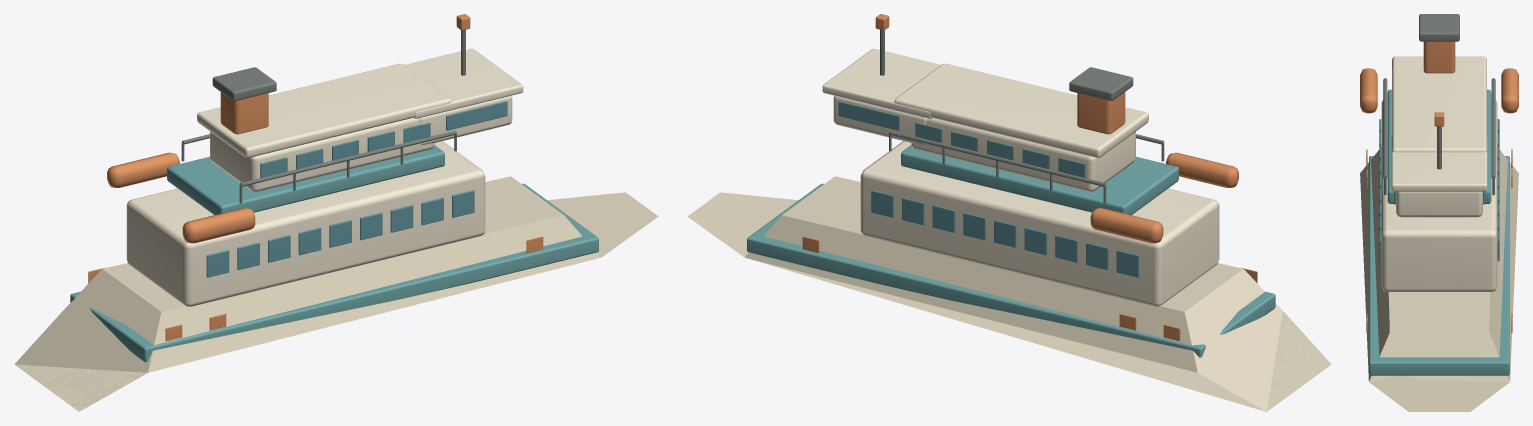
File: passenger_ferry_a.glb
3 views of the same model, side by side, from view 1: azimuth 30°, elevation 25°; view 2: azimuth 150°, elevation 25°; view 3: azimuth 270°, elevation 25° (orthographic). The views are drawn at different scales.
Visible parts, largest first — view 1: Ferry_hull, Passenger_cabin, Sun_deck_canopy, Waterline_band, Sky_deck, Upper_lounge, Bridge_visor, Lifeboat, Cruise_funnel, Lifeboat.001, Forward_bridge, Funnel_cap (+2 smaller); view 2: Ferry_hull, Passenger_cabin, Sun_deck_canopy, Waterline_band, Sky_deck, Upper_lounge, Bridge_visor, Lifeboat.001, Cruise_funnel, Lifeboat, Forward_bridge, Funnel_cap (+2 smaller); view 3: Ferry_hull, Passenger_cabin, Sun_deck_canopy, Waterline_band, Bridge_visor, Forward_bridge, Sky_deck, Funnel_cap, Cruise_funnel, Lifeboat, Lifeboat.001, Ferry_detail (+3 smaller).
Boxes of the visible parts, box(x1,y1,x2,y2) form: Ferry_hull: box(14, 176, 658, 411); Passenger_cabin: box(126, 141, 485, 306); Sun_deck_canopy: box(197, 63, 451, 157); Waterline_band: box(70, 183, 598, 362); Sky_deck: box(167, 145, 444, 215); Upper_lounge: box(210, 118, 434, 191); Bridge_visor: box(405, 48, 523, 118); Lifeboat: box(182, 208, 255, 243); Cruise_funnel: box(220, 92, 268, 134); Lifeboat.001: box(107, 152, 179, 187); Forward_bridge: box(418, 95, 512, 145); Funnel_cap: box(212, 67, 276, 100); Ferry_hull: box(687, 176, 1331, 411); Passenger_cabin: box(860, 141, 1219, 306); Sun_deck_canopy: box(894, 63, 1148, 157); Waterline_band: box(747, 183, 1275, 357); Sky_deck: box(901, 145, 1178, 215); Upper_lounge: box(911, 118, 1135, 191); Bridge_visor: box(822, 48, 940, 118); Lifeboat.001: box(1090, 208, 1163, 243); Cruise_funnel: box(1077, 92, 1125, 134); Lifeboat: box(1166, 152, 1238, 187); Forward_bridge: box(833, 95, 927, 145); Funnel_cap: box(1069, 67, 1133, 100); Ferry_hull: box(1360, 147, 1518, 411); Passenger_cabin: box(1381, 97, 1497, 291); Sun_deck_canopy: box(1392, 56, 1486, 152); Waterline_band: box(1369, 156, 1509, 375); Bridge_visor: box(1391, 137, 1487, 191); Forward_bridge: box(1396, 191, 1482, 217); Sky_deck: box(1387, 89, 1491, 203); Funnel_cap: box(1419, 14, 1459, 41); Cruise_funnel: box(1423, 41, 1455, 73); Lifeboat: box(1360, 68, 1377, 113); Lifeboat.001: box(1501, 68, 1518, 113); Ferry_detail: box(1383, 78, 1387, 178).
Bounding box in the file's own units: 5.82 × 2.53 × 1.44.
